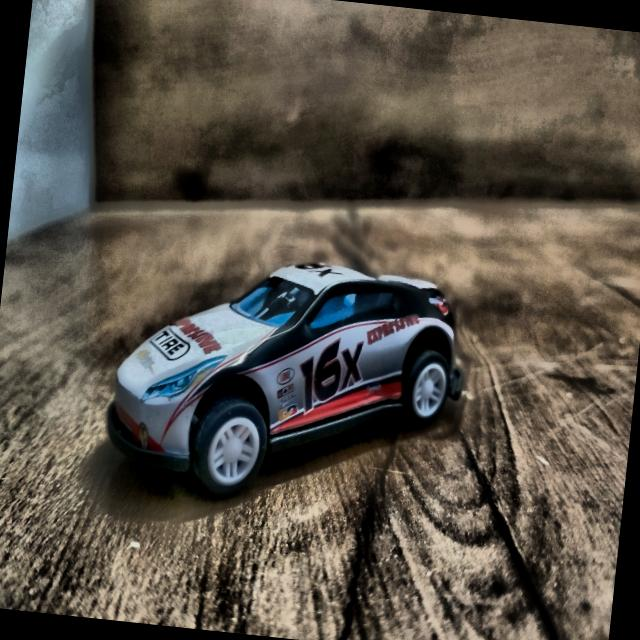Car: (98, 239, 474, 523)
